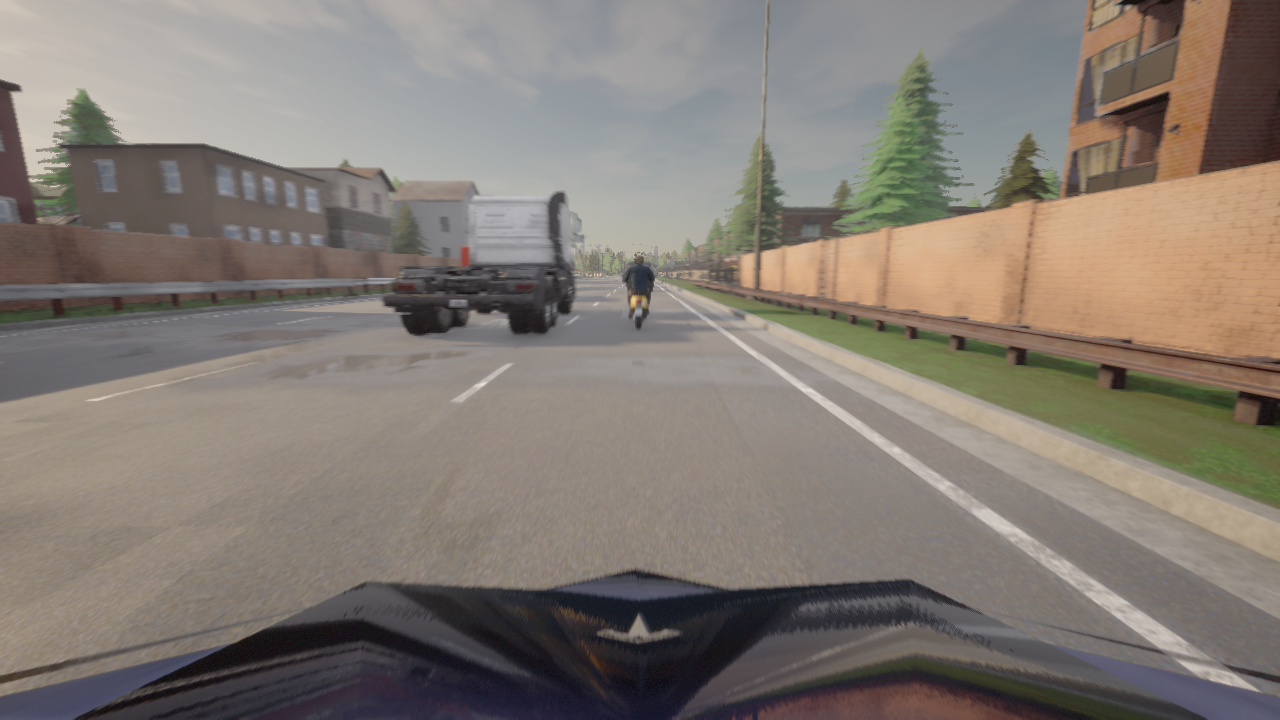cyclist: (0, 569, 1279, 719), (382, 191, 581, 334), (621, 272, 657, 328), (627, 262, 652, 291), (461, 246, 469, 266)
pedestrian: (728, 265, 733, 283), (727, 265, 731, 283), (725, 265, 727, 283), (736, 265, 738, 279)
